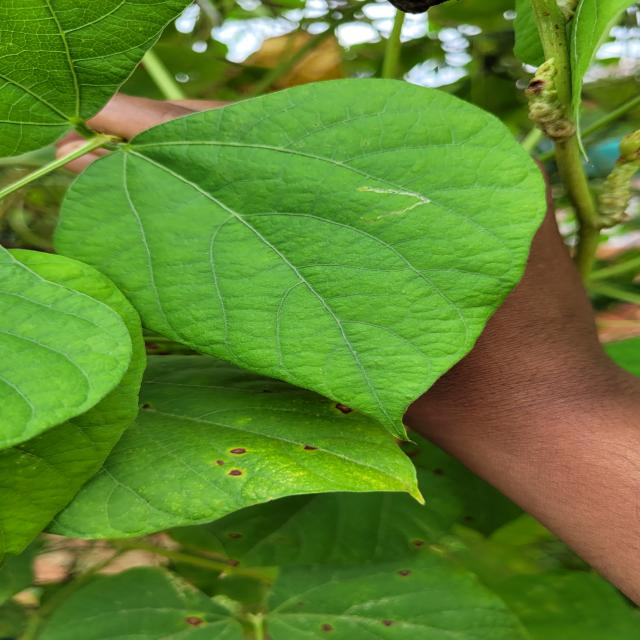Dolicos bean_healthy: (48, 73, 544, 450), (1, 240, 156, 558)
